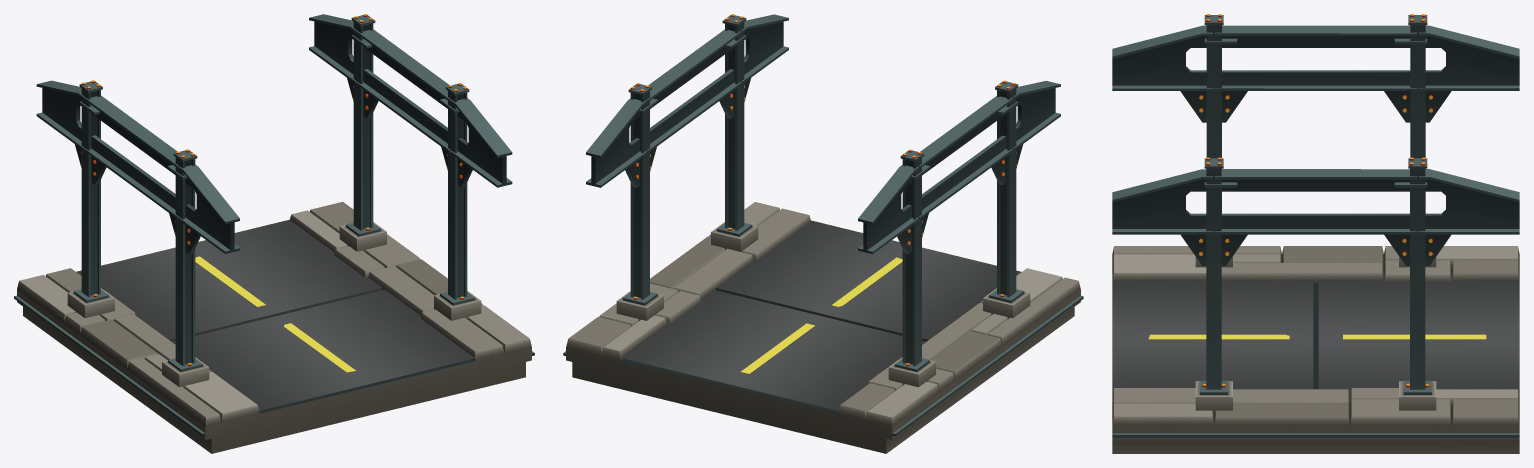
File: Bridge_Modular_2A.fbx
The picture shows the model from 3 angles, left to right: view 1: azimuth 30°, elevation 25°; view 2: azimuth 150°, elevation 25°; view 3: azimuth 270°, elevation 25°; orthographic projection. The views are drawn at different scales.
Parts seen in each view (by area): view 1: Bridge_Modular_2A; view 2: Bridge_Modular_2A; view 3: Bridge_Modular_2A.
Part boxes in pixels (left/top/right/bottom): Bridge_Modular_2A: left=14, top=14, right=534, bottom=453; Bridge_Modular_2A: left=563, top=14, right=1083, bottom=453; Bridge_Modular_2A: left=1112, top=14, right=1519, bottom=453.
Bounding box in the file's own units: 1222 × 917 × 1200.
